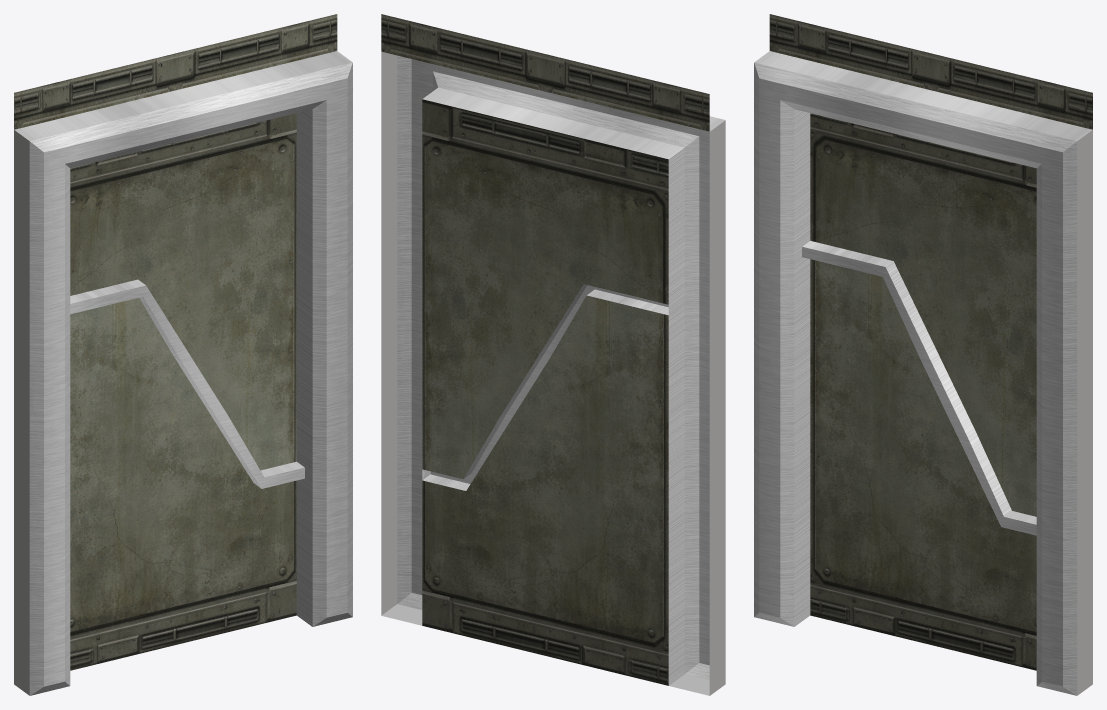
The model's file is doortype1.glb.
The picture shows the model from 3 angles, left to right: view 1: azimuth 30°, elevation 25°; view 2: azimuth 150°, elevation 25°; view 3: azimuth 330°, elevation 25°; orthographic projection.
Visible parts, largest first — view 1: door; view 2: door; view 3: door.
Boxes of the visible parts, x1,y1,x2,y2 form: door: (14,14,352,695); door: (381,14,725,695); door: (754,14,1092,695).
Size of what is drawn, in the model's own units: 0.8 by 1.4 by 0.0868.
2 materials, 2 textured.
